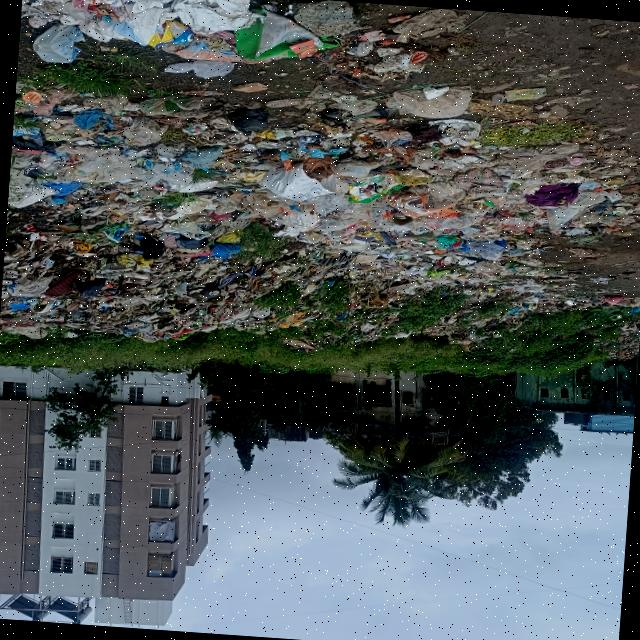garbage: (0, 76, 622, 353), (17, 0, 408, 93)
